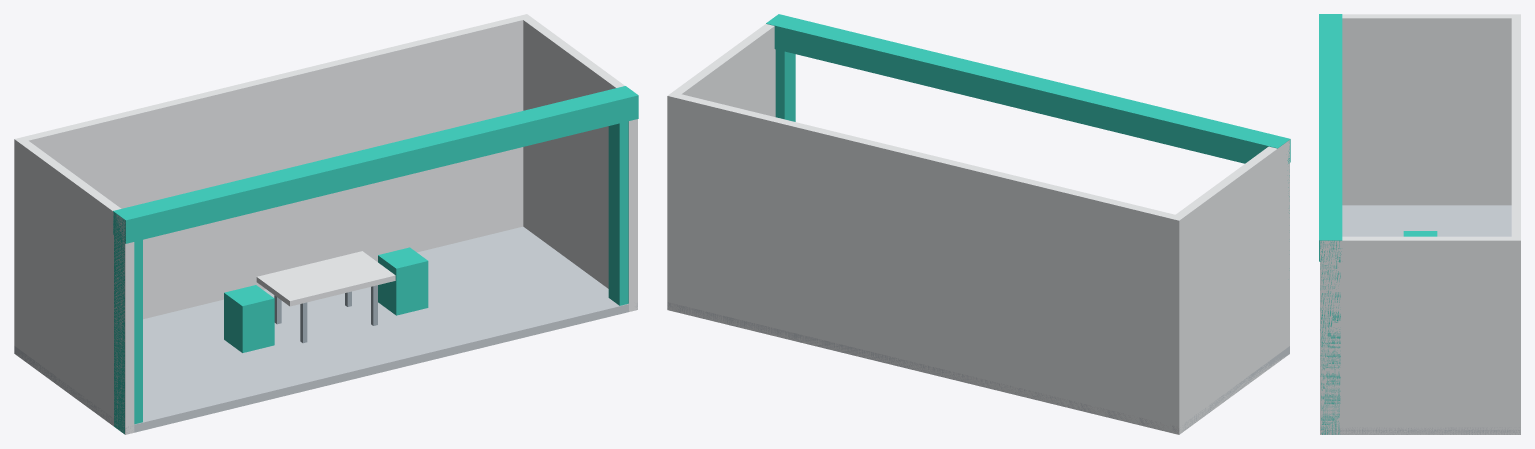
3 renders of one model, left to right at view 1: azimuth 30°, elevation 25°; view 2: azimuth 150°, elevation 25°; view 3: azimuth 270°, elevation 25°, orthographic. The views are drawn at different scales.
Visible parts, largest first — view 1: Exhibition Booth Concept; view 2: Exhibition Booth Concept; view 3: Exhibition Booth Concept.
Boxes of the visible parts, x1,y1,x2,y2 form: Exhibition Booth Concept: [14, 14, 638, 434]; Exhibition Booth Concept: [667, 14, 1290, 434]; Exhibition Booth Concept: [1319, 14, 1520, 434].
Size of the model in its own units: 8 by 3.2 by 3.01.
